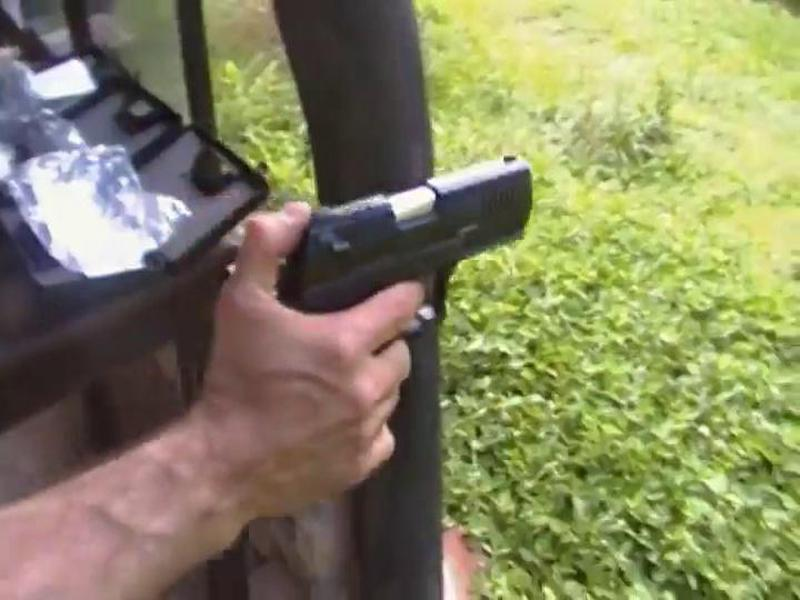Pistola: (206, 141, 589, 366)
